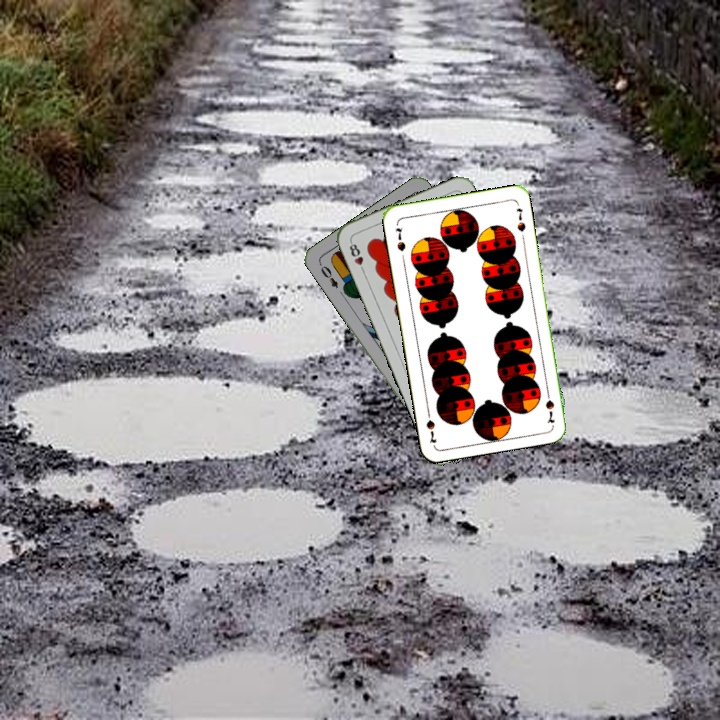EO: (315, 259, 341, 291)
H8: (345, 237, 368, 276)
S7: (542, 386, 558, 426), (391, 223, 408, 254)
